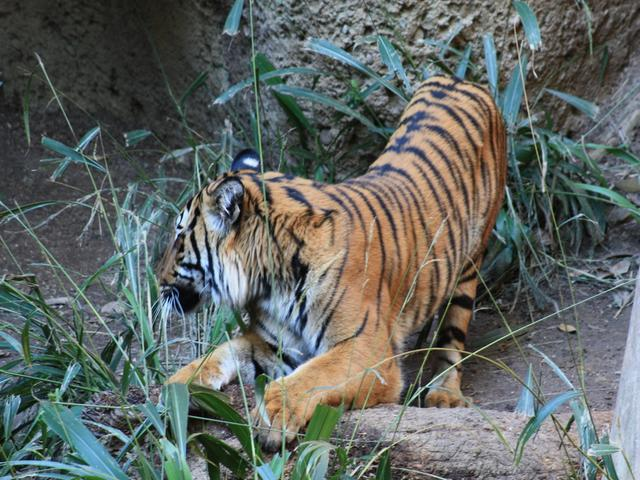tiger: (98, 49, 533, 425)
